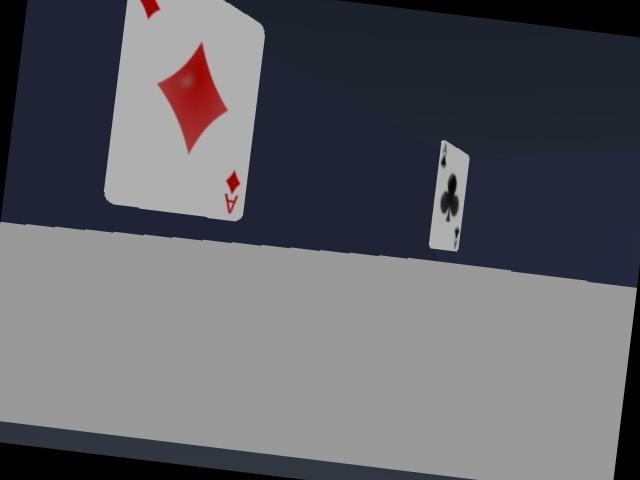club: (429, 141, 469, 251)
